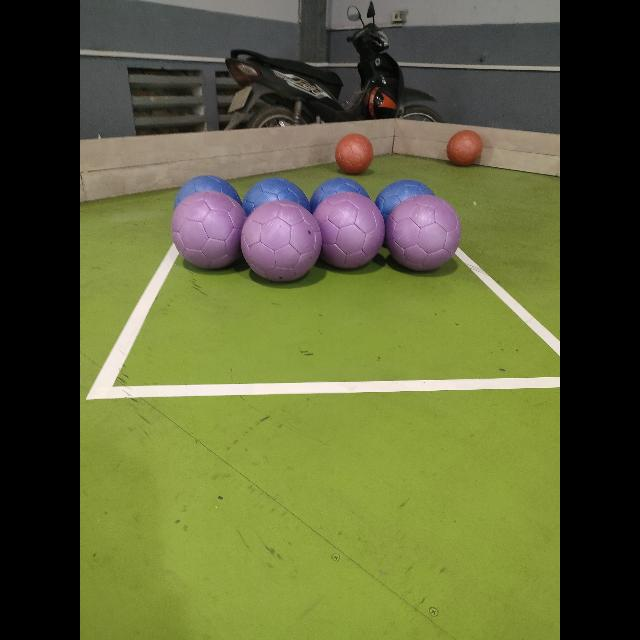B: (242, 178, 310, 216), (374, 179, 434, 219), (174, 176, 242, 208), (310, 177, 368, 213)
P: (241, 200, 321, 282), (313, 188, 385, 270), (385, 195, 461, 271), (172, 190, 246, 268)
R: (335, 133, 373, 173), (447, 130, 483, 166)
